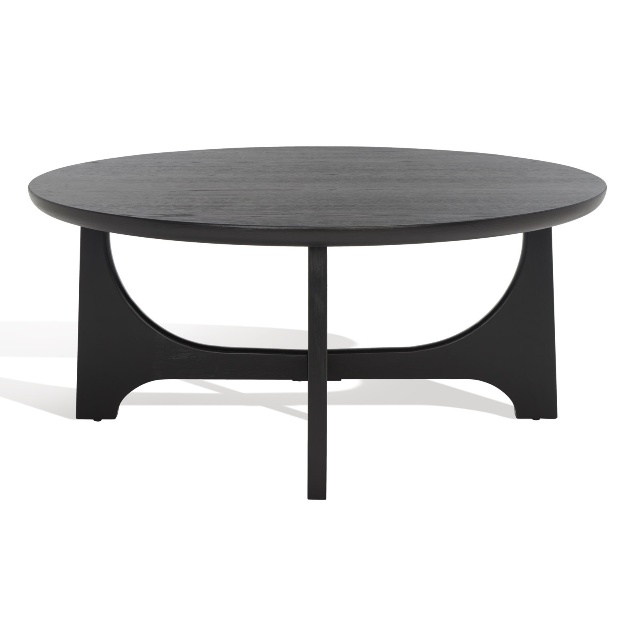obstacle: (29, 147, 605, 499)
